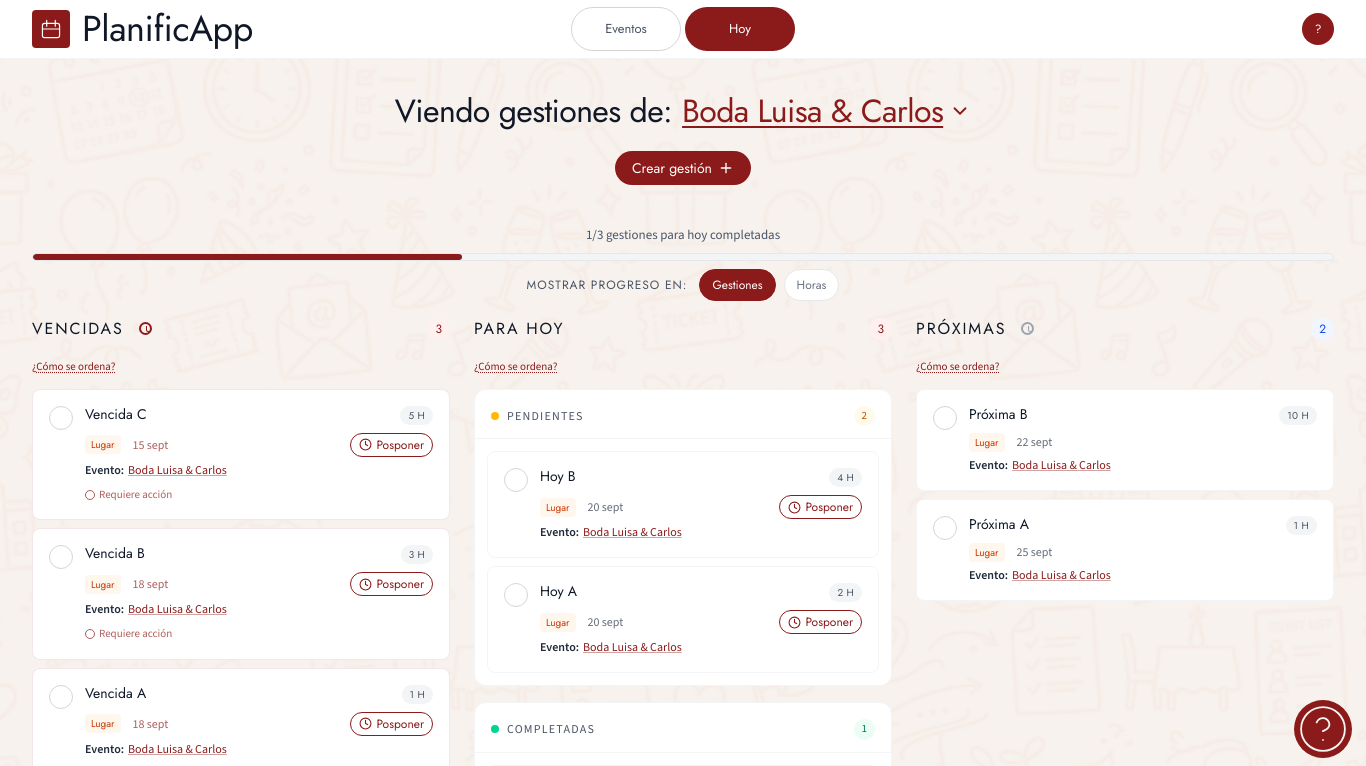
Test case: HomePage › cada grupo de Hoy tiene un '¿Cómo se ordena?' que abre un popup con su regla de orden
This screenshot has width=1366, height=766.
Expected: the text "Vencida A" is shown, [85,684,146,702]
Step 1. Click the button "¿Cómo se ordena?" below "Vencidas" → coordinates (74, 367), box [32,358,115,375]
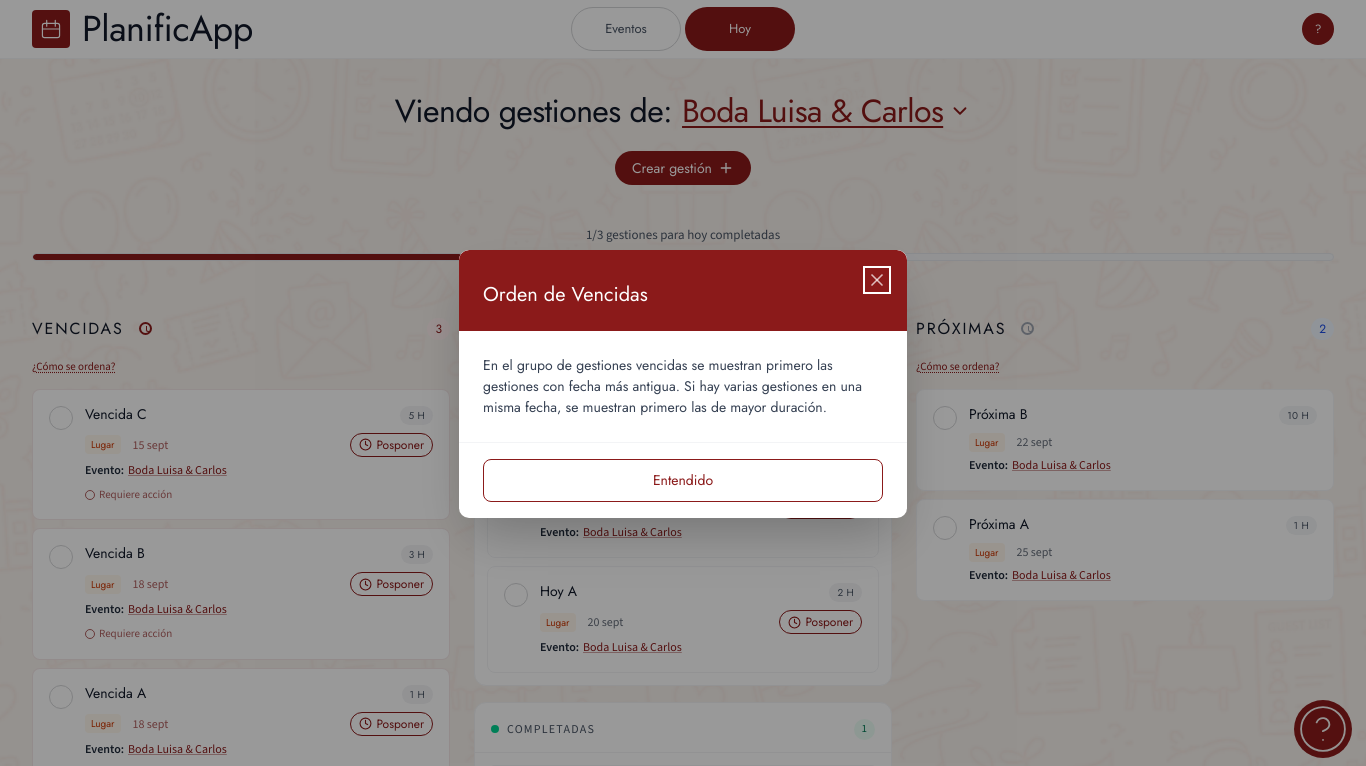
Expected: the text "En el grupo de gestiones vencidas" is shown, [483,355,862,417]
Step 2. Click the button "Entendido" → coordinates (683, 480), box [483,459,883,502]
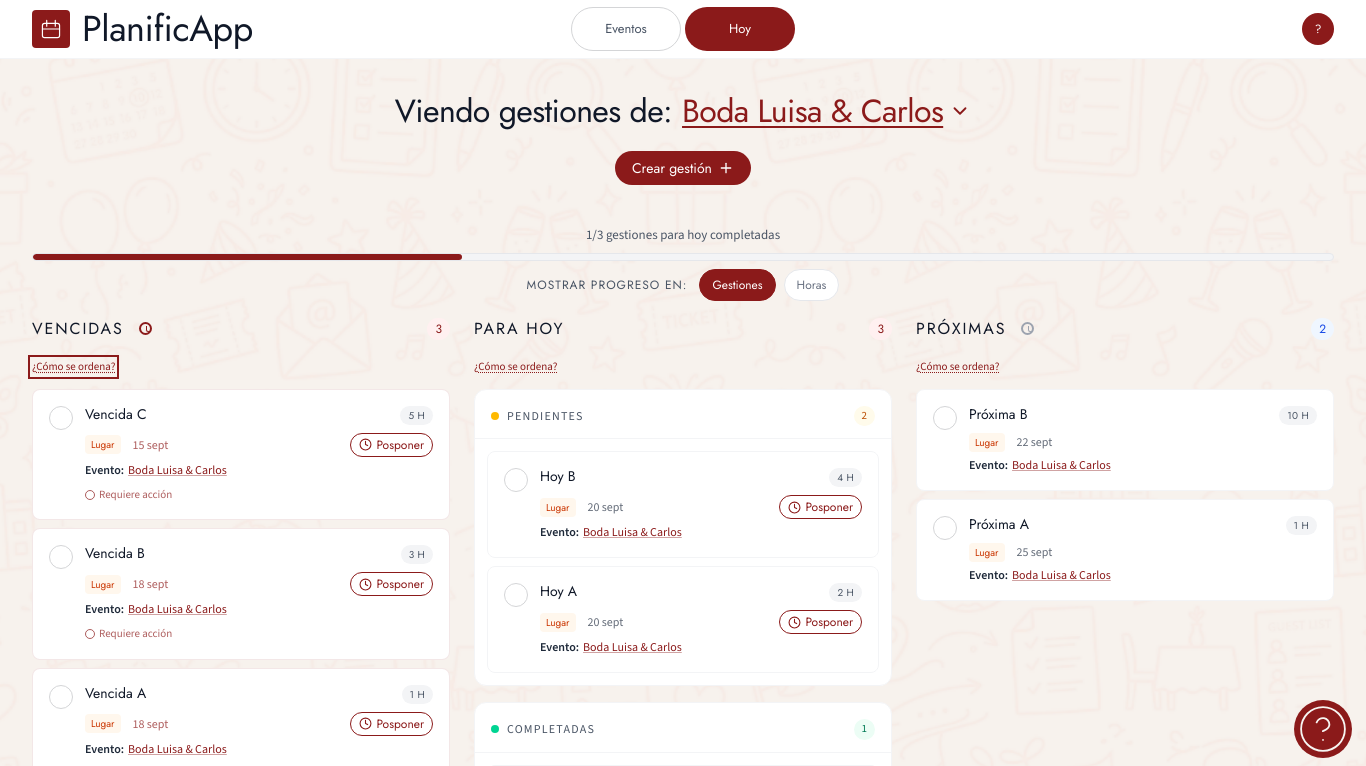
Expected: the dialog is gone
Step 3. Click the 2nd button "¿Cómo se ordena?" → coordinates (516, 367), box [474,358,557,375]
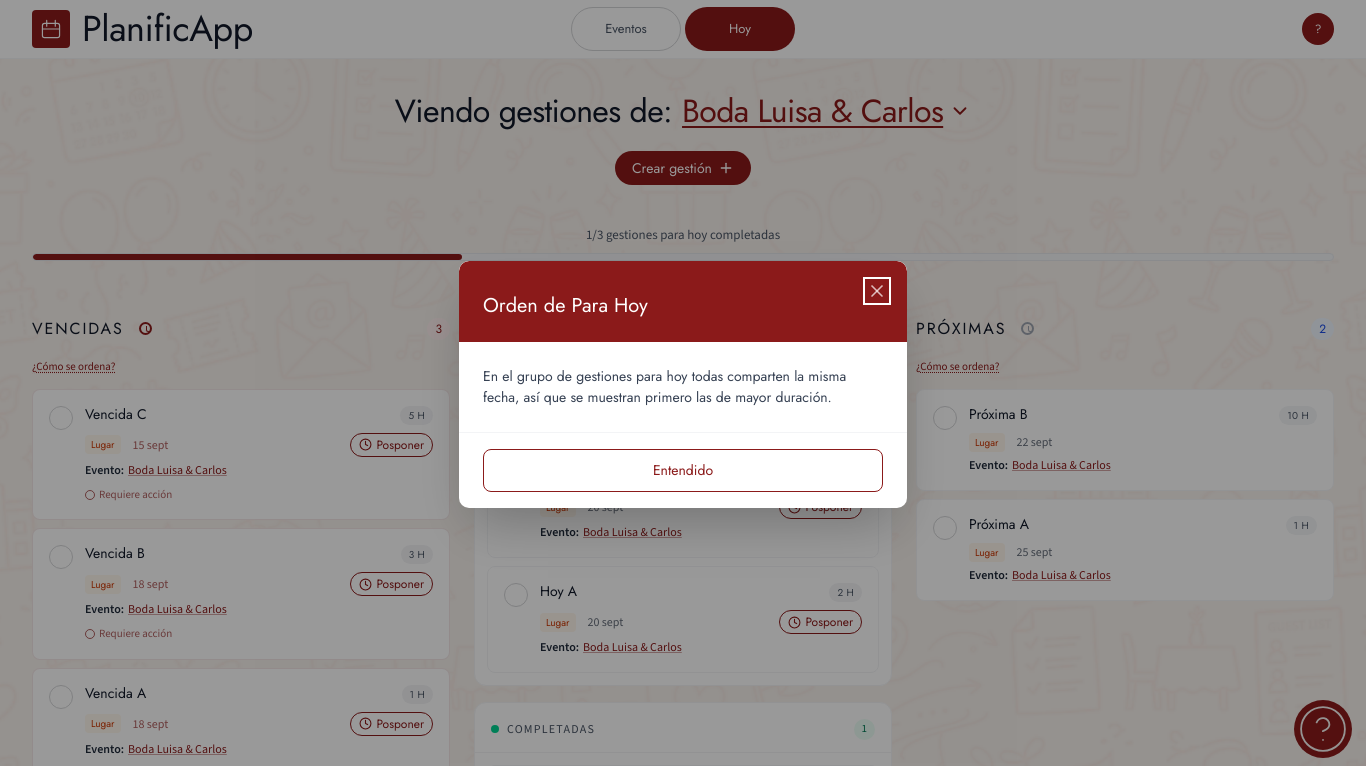
Expected: the text "En el grupo de gestiones para hoy" is shown, [483,366,846,406]
Step 4. Click the button "Entendido" → coordinates (683, 470), box [483,448,883,492]
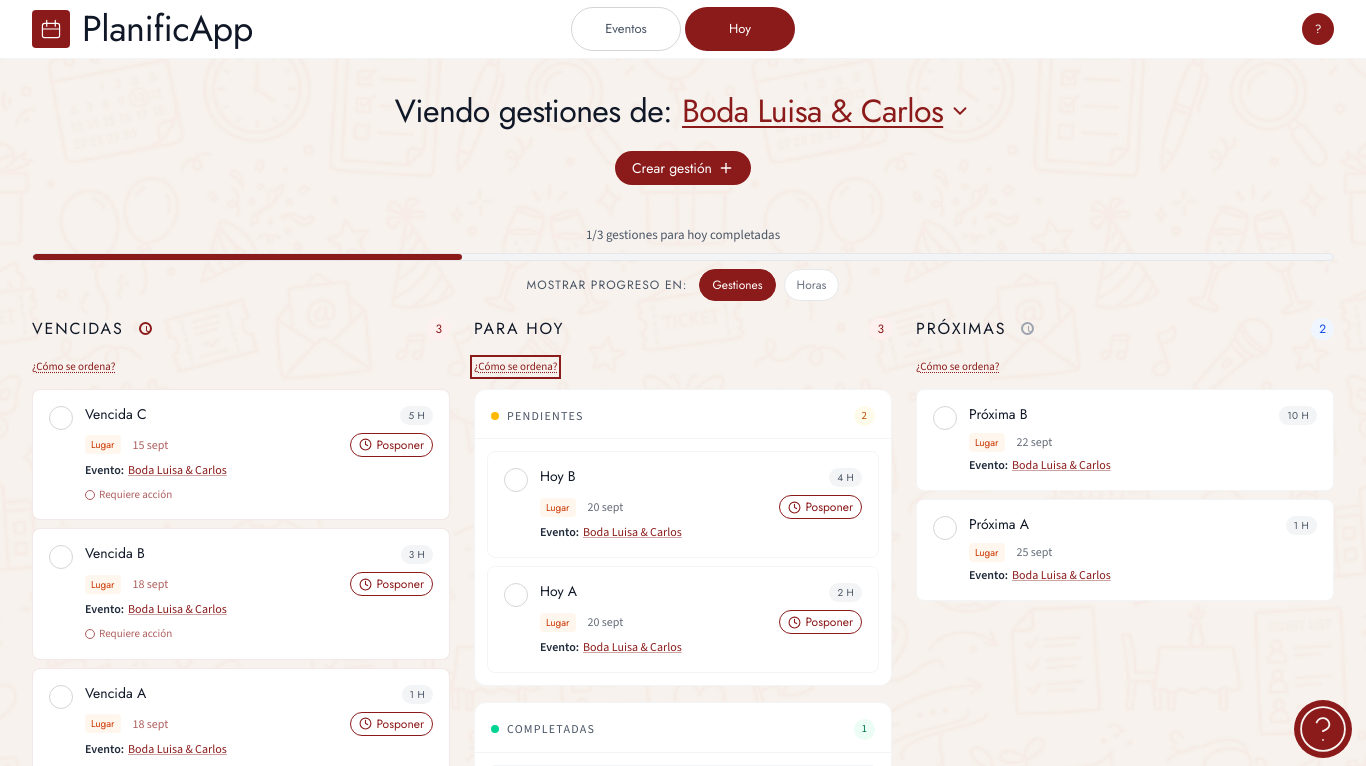
Expected: the dialog is gone
Step 5. Click the button "¿Cómo se ordena?" below "Próximas" → coordinates (958, 367), box [916,358,999,375]
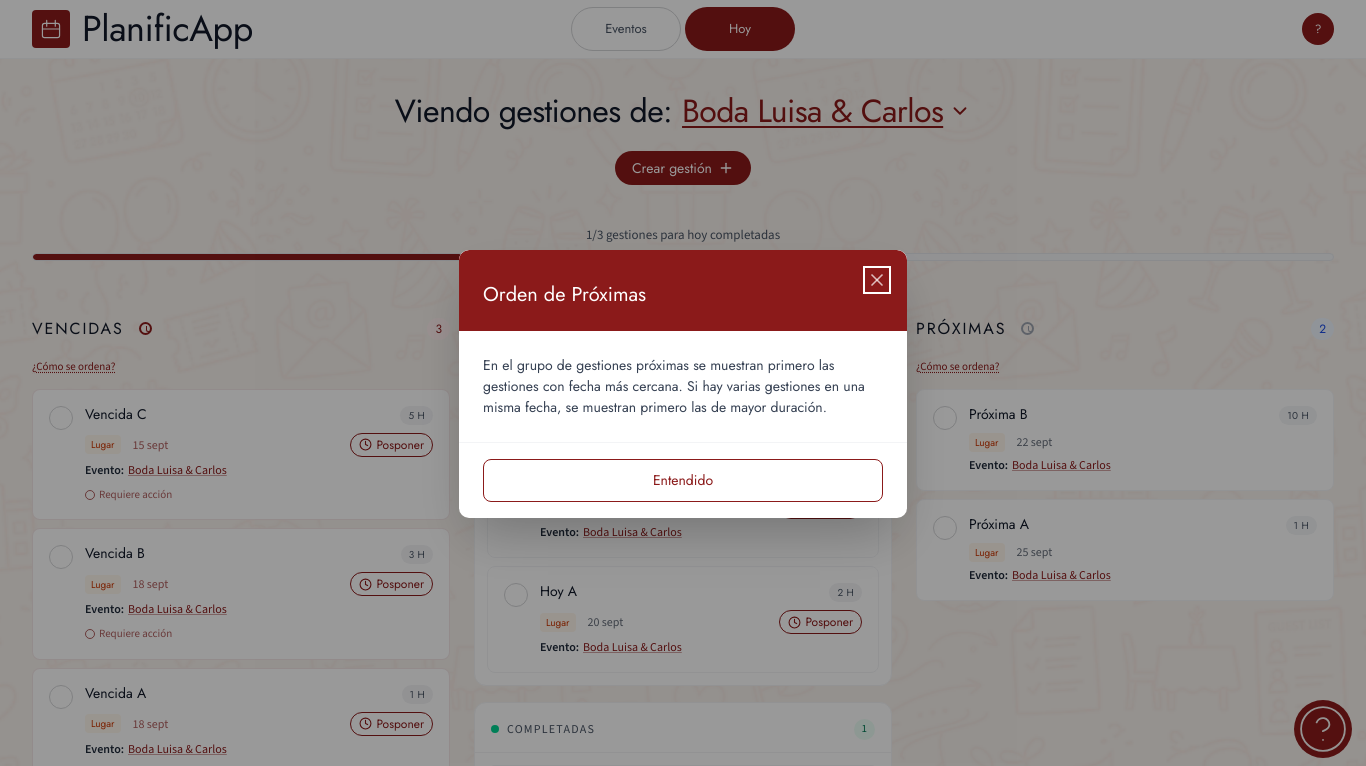
Expected: the text "En el grupo de gestiones próximas" is shown, [483,355,865,417]
Step 6. Click the button "Entendido" → coordinates (683, 480), box [483,459,883,502]
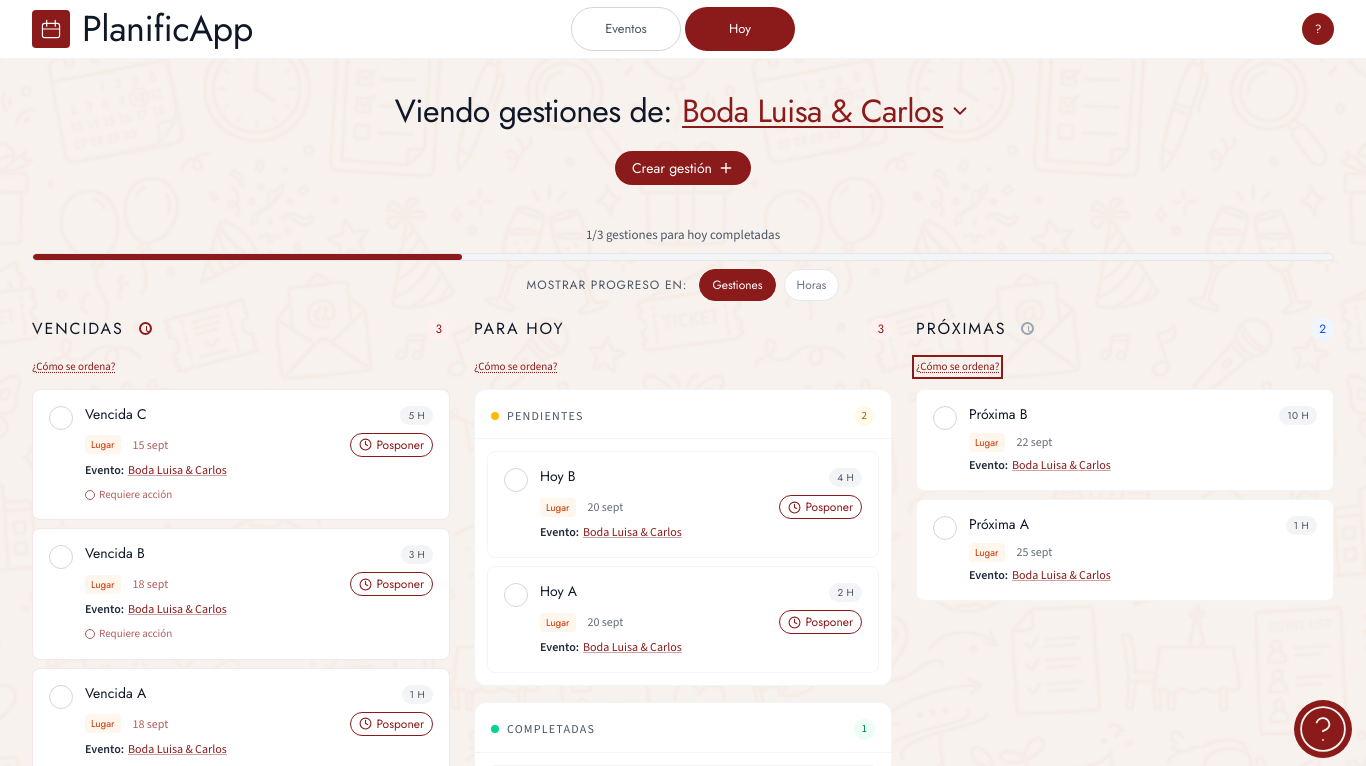
Expected: the dialog is gone
